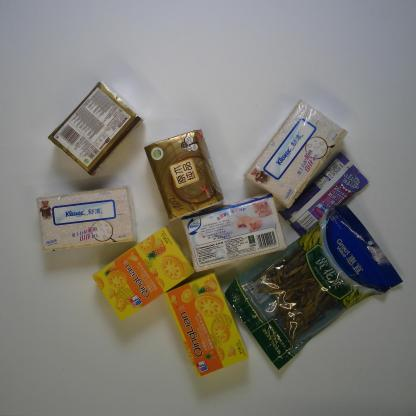Candy: (277, 154, 370, 236)
Dessert: (92, 226, 195, 322), (163, 271, 249, 382)
Dried Food: (224, 204, 403, 371)
Tissue: (244, 98, 350, 211), (46, 80, 144, 176), (182, 192, 287, 273), (142, 128, 225, 223), (35, 184, 137, 254)
